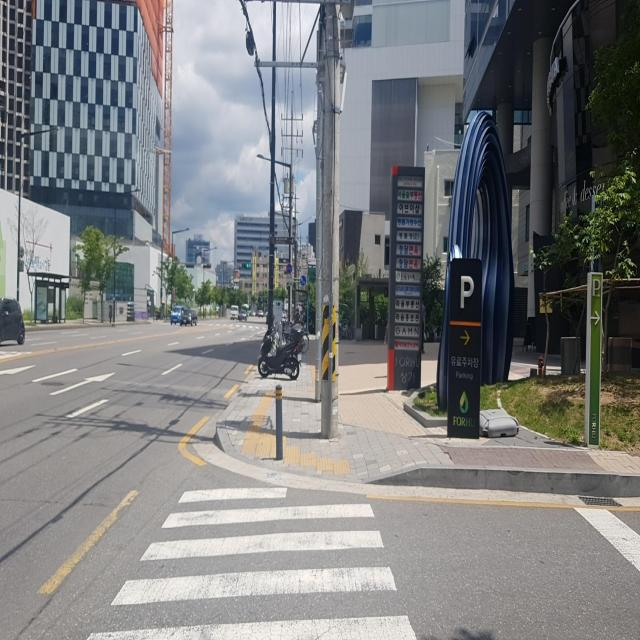횡단보도: (83, 485, 419, 640)
